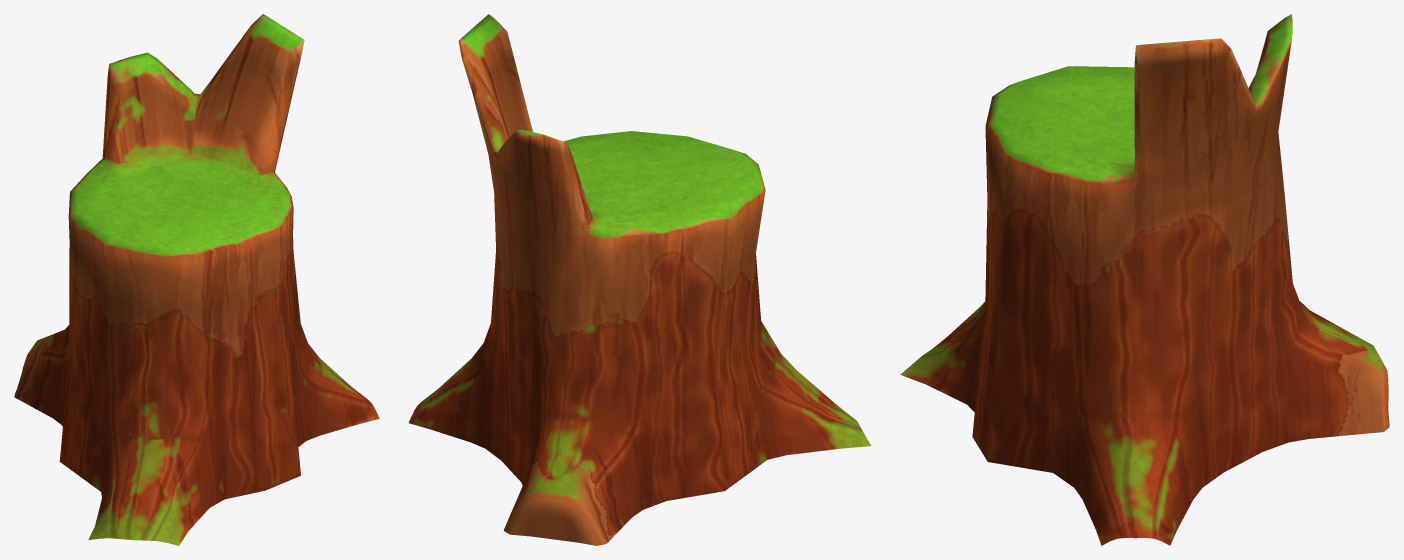
File: Stump01.FBX
3 renders of one model, left to right at view 1: azimuth 30°, elevation 25°; view 2: azimuth 150°, elevation 25°; view 3: azimuth 270°, elevation 25°, orthographic. The views are drawn at different scales.
Parts seen in each view (by area): view 1: Stump01; view 2: Stump01; view 3: Stump01.
Boxes of the visible parts, box(x1,y1,x2,y2) form: Stump01: box(14, 14, 379, 545); Stump01: box(408, 14, 871, 545); Stump01: box(900, 14, 1389, 545).
Size of what is drawn, in the model's own units: 0.7789 by 0.8223 by 0.7803.
